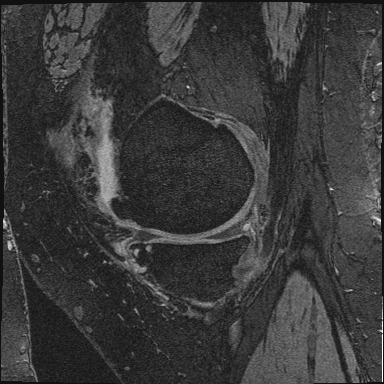effusion: (96, 140, 116, 204)
